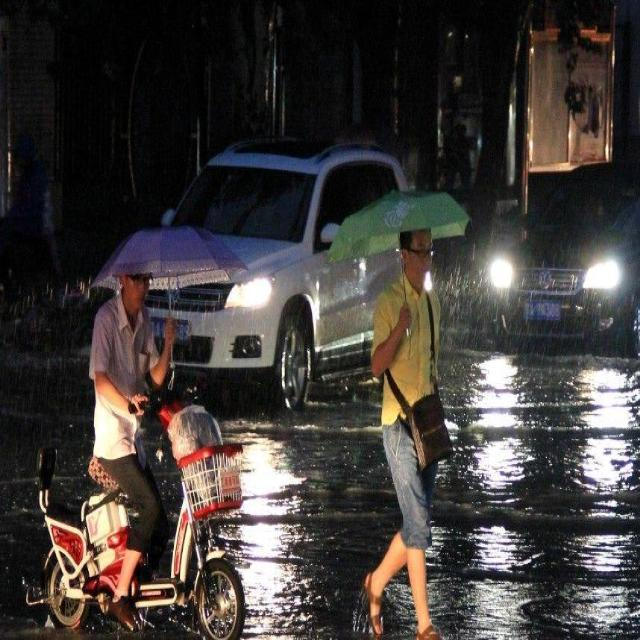car: (124, 137, 442, 408), (486, 156, 640, 352)
